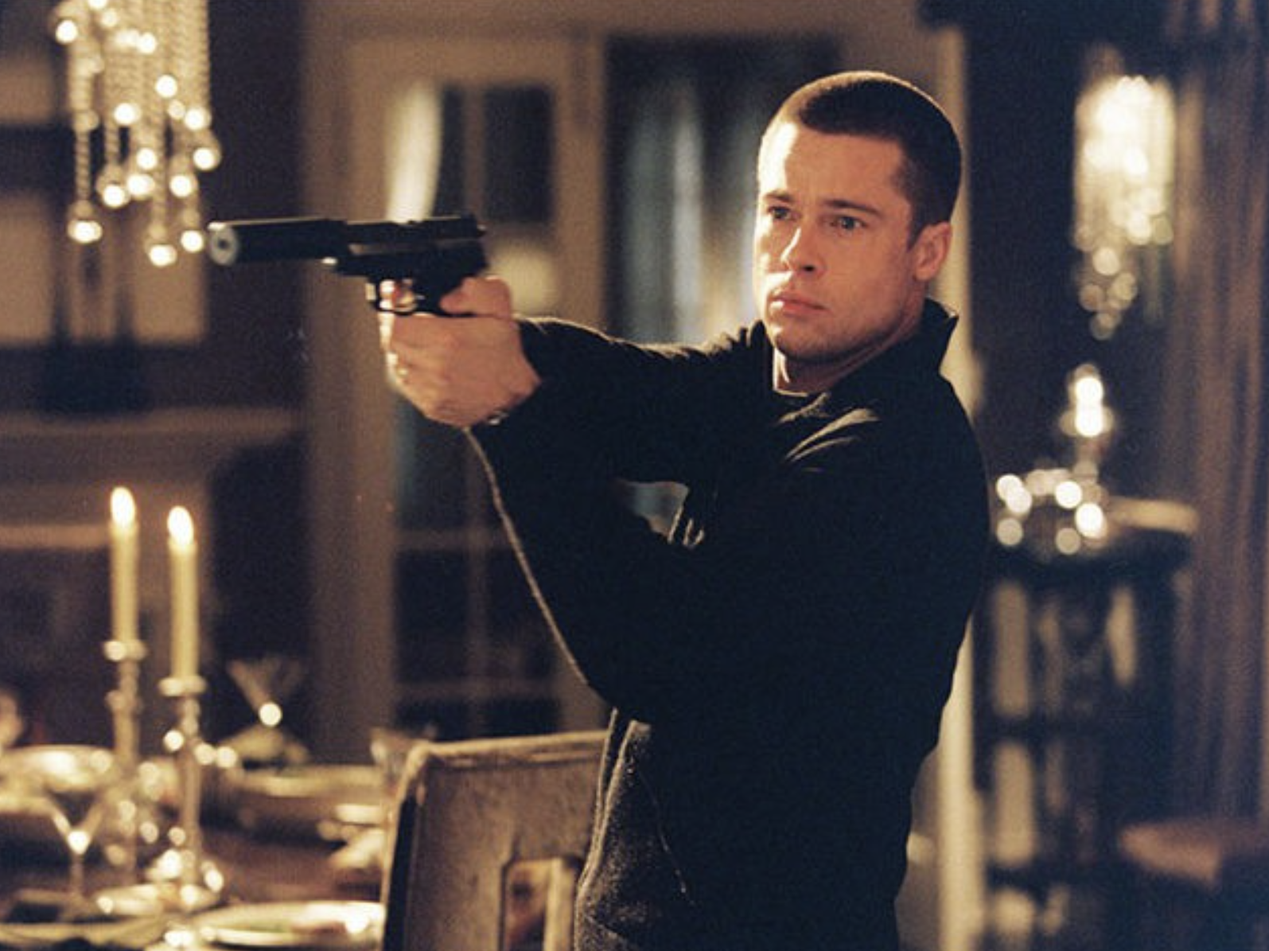gun_010: (200, 200, 509, 329)
